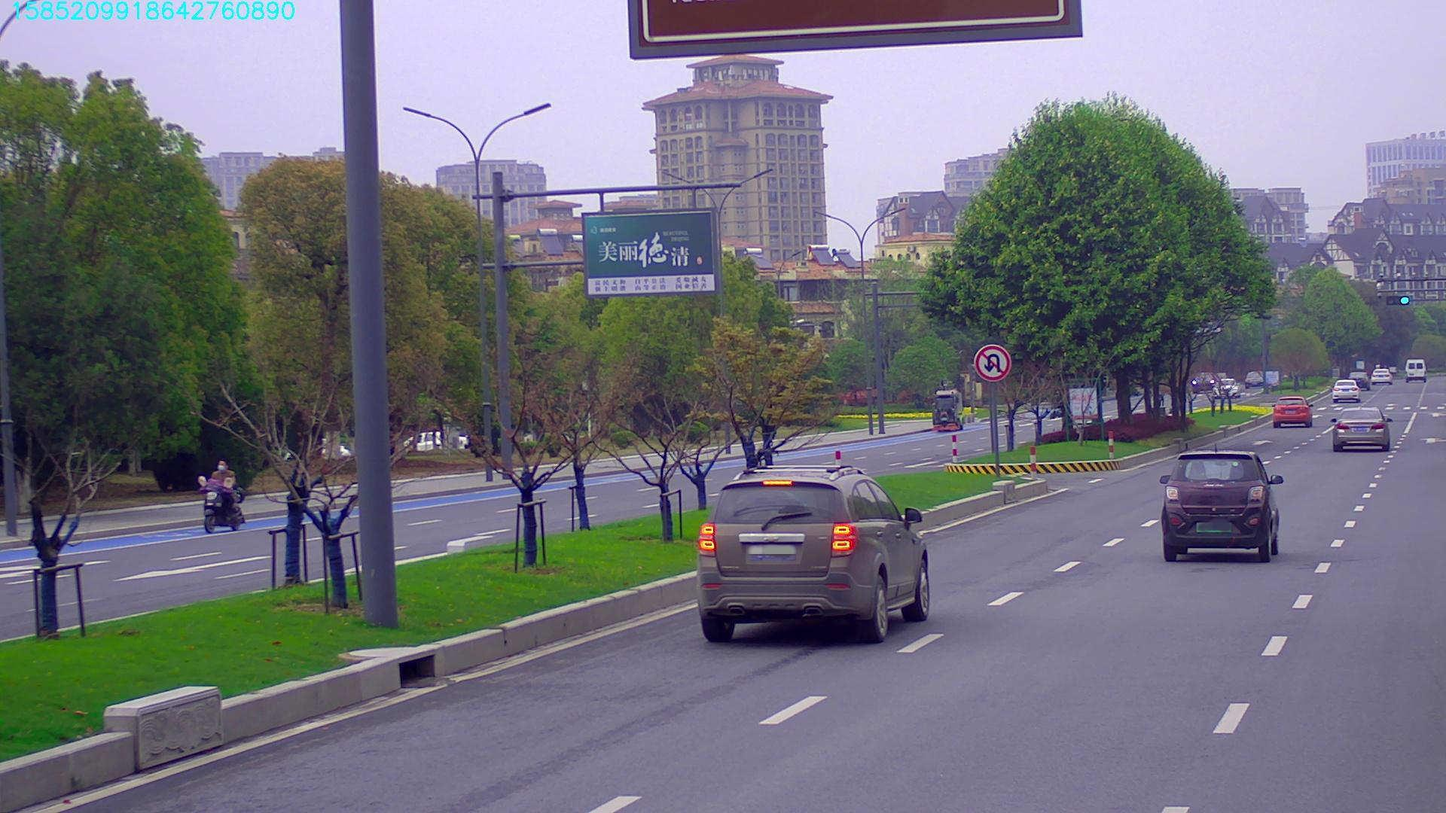green: (1380, 294, 1408, 303)
